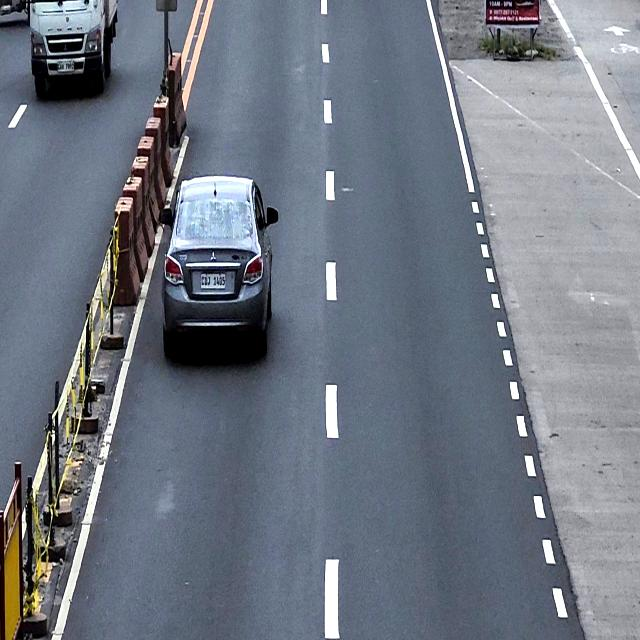Car: (157, 173, 281, 360)
License-Plate: (200, 272, 227, 292), (55, 58, 77, 74)
Truck: (30, 0, 120, 104)
